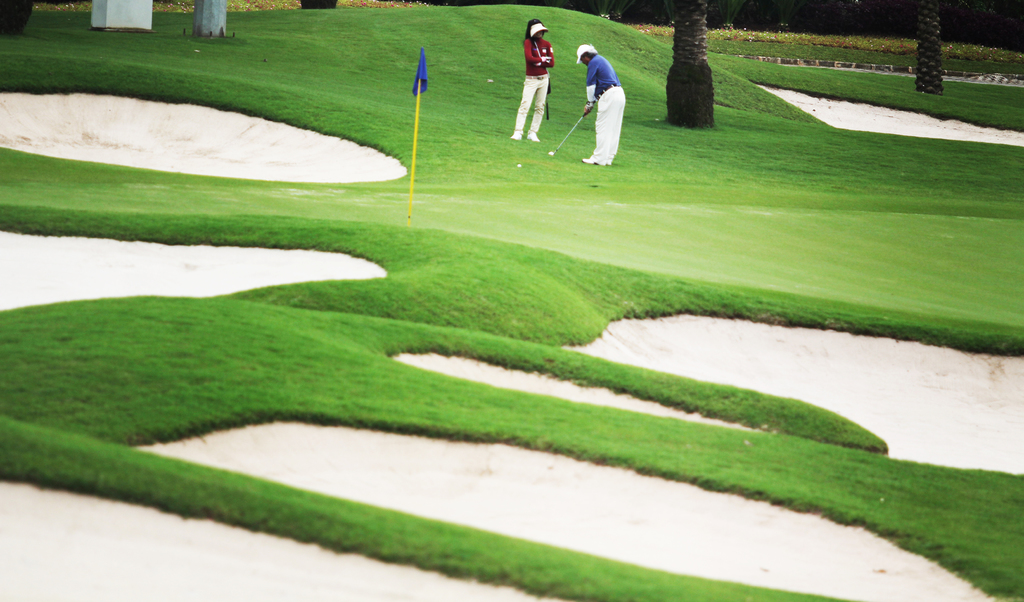Person: (509, 18, 554, 141)
